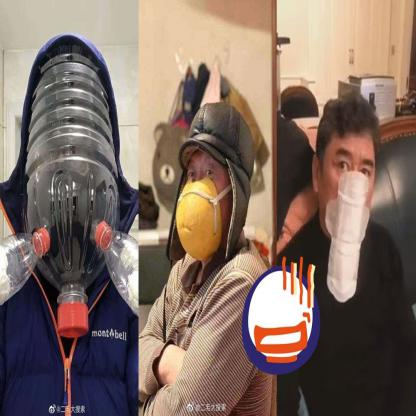Wearing_Mask: (25, 132, 113, 278), (174, 159, 230, 260), (319, 145, 374, 245)
